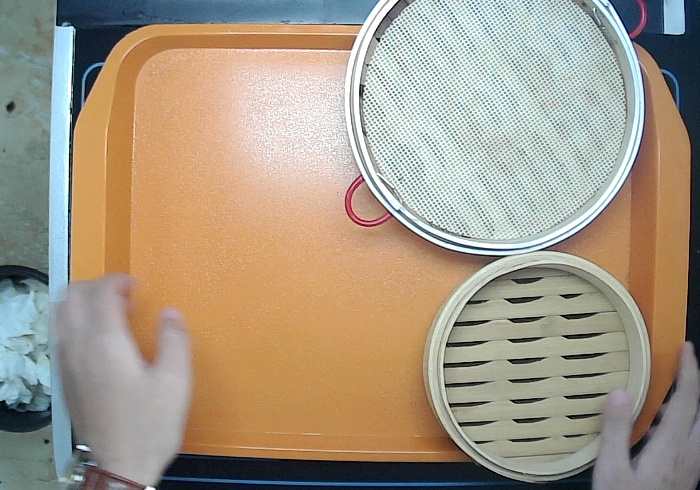ZNLD-Da_Zheng_Long: (338, 1, 651, 259)
ZNLD-Xiao_Zheng_Long: (417, 244, 657, 488)
